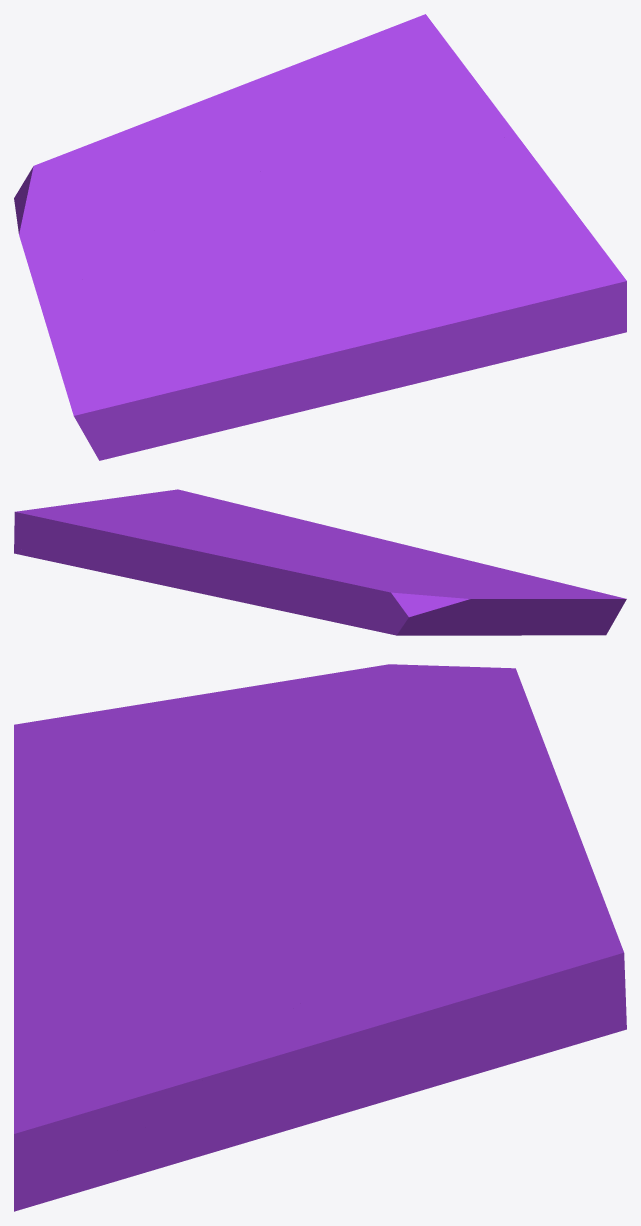
The model's file is Window_159_0_chunks.fbx.
3 renders of one model, top to bottom at view 1: azimuth 30°, elevation 25°; view 2: azimuth 150°, elevation 25°; view 3: azimuth 270°, elevation 25°, orthographic. The views are drawn at different scales.
Visible parts, largest first — view 1: Window_159_0_0, Window_159_0_11, Window_159_0_22, Window_159_0_2, Window_159_0_24, Window_159_0_23, Window_159_0_8, Window_159_0_3, Window_159_0_12, Window_159_0_10, Window_159_0_16, Window_159_0_13 (+5 smaller); view 2: Window_159_0_0, Window_159_0_12, Window_159_0_11, Window_159_0_3, Window_159_0_6, Window_159_0_7, Window_159_0_24, Window_159_0_2, Window_159_0_8, Window_159_0_9, Window_159_0_23, Window_159_0_22 (+4 smaller); view 3: Window_159_0_8, Window_159_0_0, Window_159_0_11, Window_159_0_19, Window_159_0_24, Window_159_0_2, Window_159_0_22, Window_159_0_12, Window_159_0_3, Window_159_0_23, Window_159_0_10, Window_159_0_16 (+4 smaller).
Boxes of the visible parts, bbox=[...] form: Window_159_0_0: bbox=[34, 272, 305, 460]; Window_159_0_11: bbox=[80, 73, 305, 220]; Window_159_0_22: bbox=[452, 216, 626, 374]; Window_159_0_2: bbox=[140, 208, 347, 371]; Window_159_0_24: bbox=[356, 168, 577, 272]; Window_159_0_23: bbox=[340, 244, 478, 393]; Window_159_0_8: bbox=[318, 46, 508, 188]; Window_159_0_3: bbox=[15, 188, 161, 284]; Window_159_0_12: bbox=[272, 14, 449, 133]; Window_159_0_10: bbox=[214, 122, 355, 230]; Window_159_0_16: bbox=[254, 170, 365, 249]; Window_159_0_13: bbox=[261, 238, 375, 402]; Window_159_0_0: bbox=[441, 554, 626, 635]; Window_159_0_12: bbox=[14, 509, 193, 572]; Window_159_0_11: bbox=[162, 540, 376, 585]; Window_159_0_3: bbox=[363, 571, 513, 635]; Window_159_0_6: bbox=[166, 583, 352, 625]; Window_159_0_7: bbox=[345, 579, 429, 635]; Window_159_0_24: bbox=[126, 495, 291, 537]; Window_159_0_2: bbox=[334, 544, 444, 578]; Window_159_0_8: bbox=[14, 502, 236, 557]; Window_159_0_9: bbox=[102, 549, 200, 585]; Window_159_0_23: bbox=[264, 519, 403, 545]; Window_159_0_22: bbox=[139, 489, 297, 519]; Window_159_0_8: bbox=[311, 886, 626, 1069]; Window_159_0_0: bbox=[14, 681, 284, 890]; Window_159_0_11: bbox=[325, 701, 581, 871]; Window_159_0_19: bbox=[62, 1013, 392, 1197]; Window_159_0_24: bbox=[109, 923, 315, 1104]; Window_159_0_2: bbox=[14, 761, 372, 927]; Window_159_0_22: bbox=[14, 1005, 173, 1211]; Window_159_0_12: bbox=[425, 841, 626, 1013]; Window_159_0_3: bbox=[259, 664, 473, 770]; Window_159_0_23: bbox=[14, 921, 210, 1023]; Window_159_0_10: bbox=[287, 812, 470, 911]; Window_159_0_16: bbox=[216, 844, 372, 924].
Bounding box in the file's own units: 1133 × 334 × 717.
